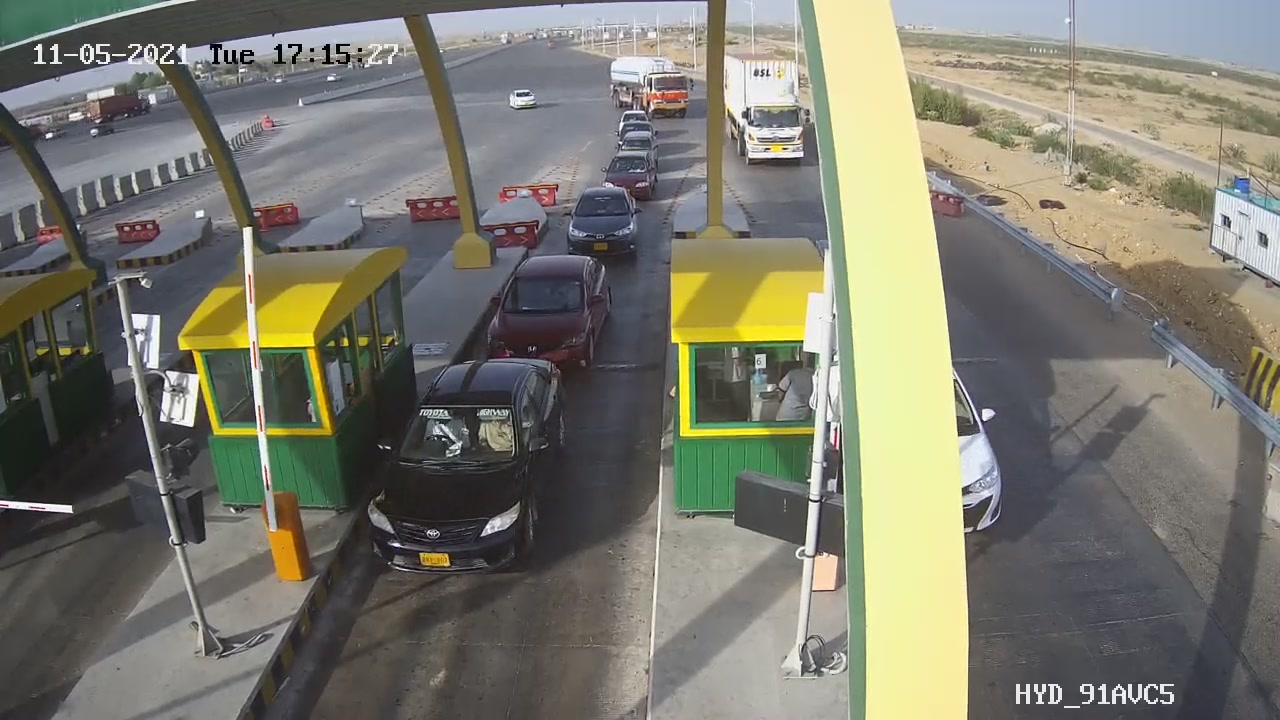F1: (346, 338, 581, 595), (461, 236, 626, 390), (552, 177, 650, 272)
